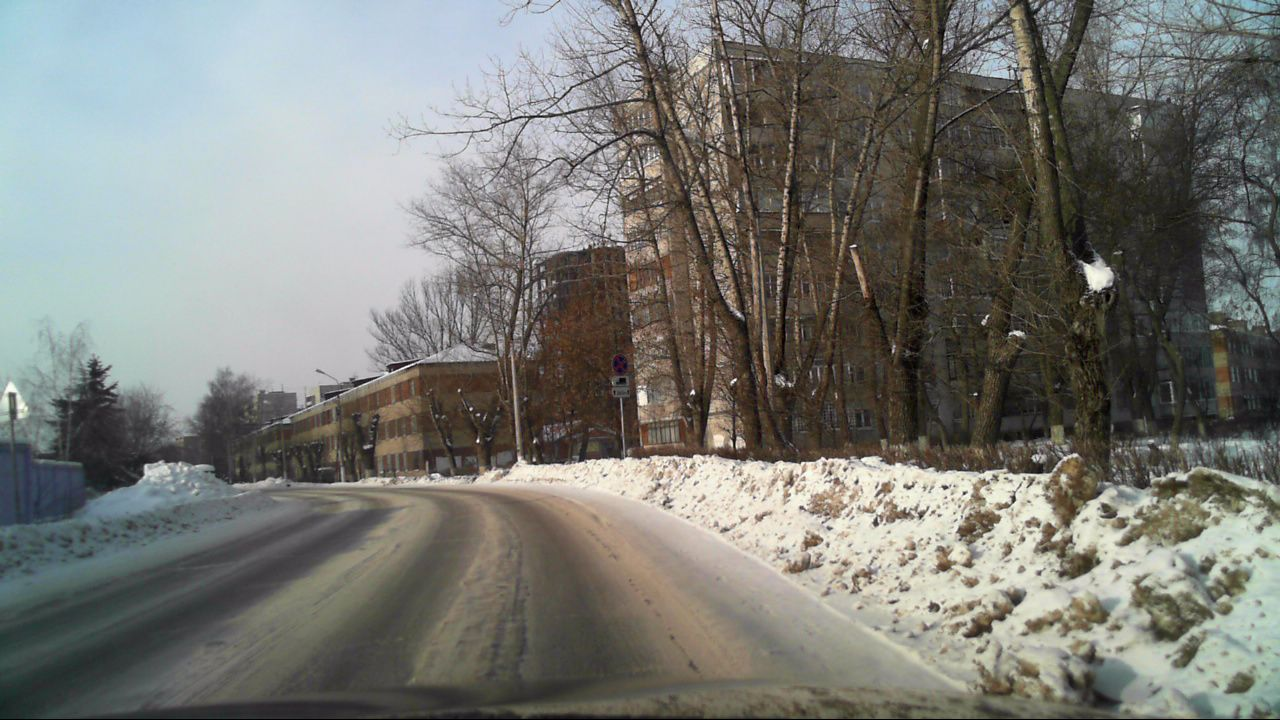No Parking: (611, 353, 628, 374)
